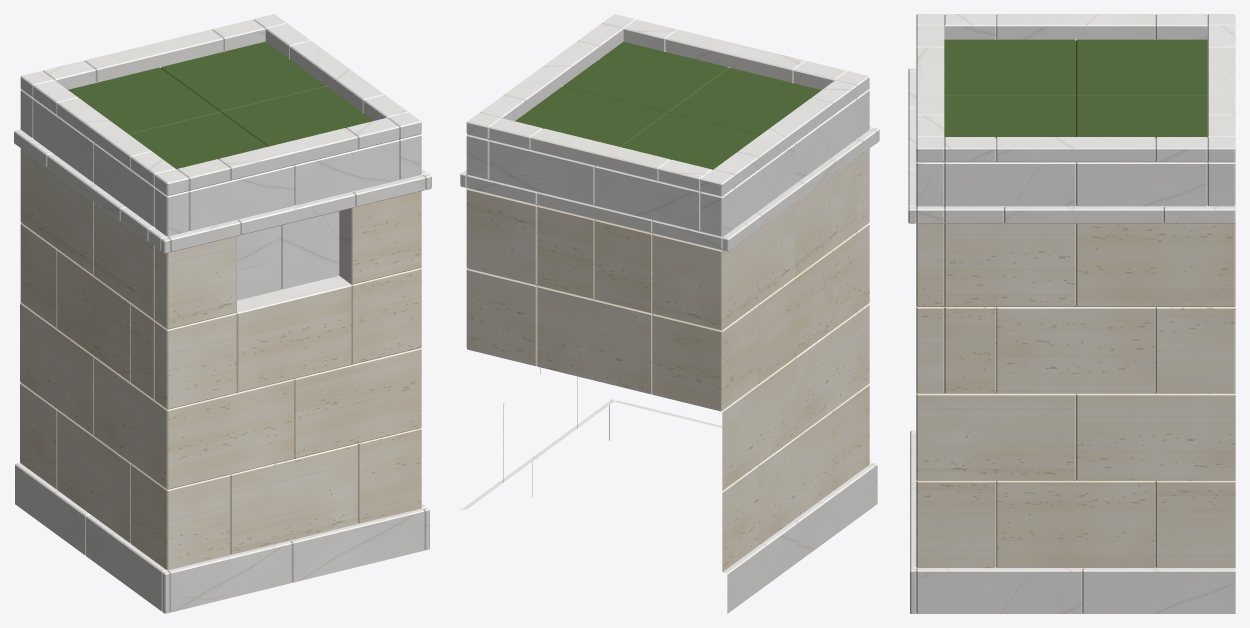
The picture shows the model from 3 angles, left to right: view 1: azimuth 30°, elevation 25°; view 2: azimuth 150°, elevation 25°; view 3: azimuth 270°, elevation 25°; orthographic projection. The views are drawn at different scales.
Visible parts, largest first — view 1: Mesh_cascade_tower; view 2: Mesh_cascade_tower; view 3: Mesh_cascade_tower.
Part boxes in pixels (left/top/right/bottom): Mesh_cascade_tower: left=14, top=14, right=431, bottom=613; Mesh_cascade_tower: left=460, top=14, right=879, bottom=613; Mesh_cascade_tower: left=908, top=14, right=1235, bottom=613.
Bounding box in the file's own units: 4.2 × 6.4 × 4.1.
Materials: 1 (1 with a texture image).
